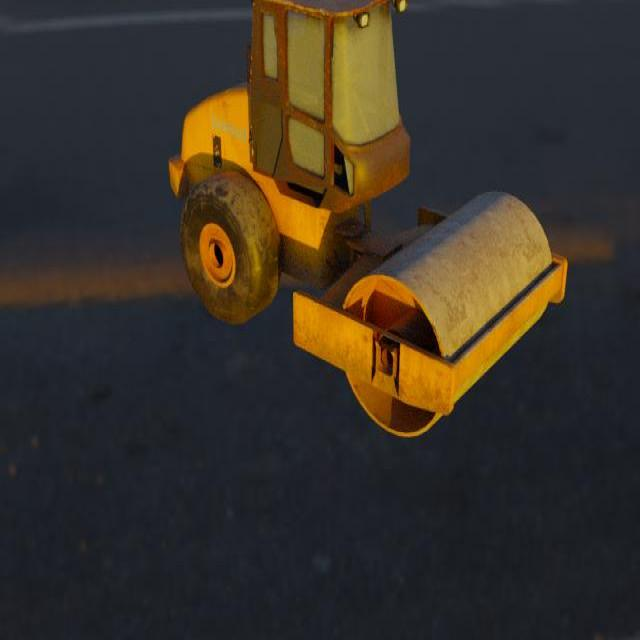Roller: (168, 0, 567, 439)
